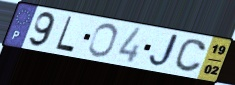4: (115, 26, 142, 65)
9: (28, 11, 58, 49)
C: (172, 37, 208, 74)
J: (147, 33, 184, 69)
L: (54, 15, 76, 54)
O: (86, 22, 120, 59)
